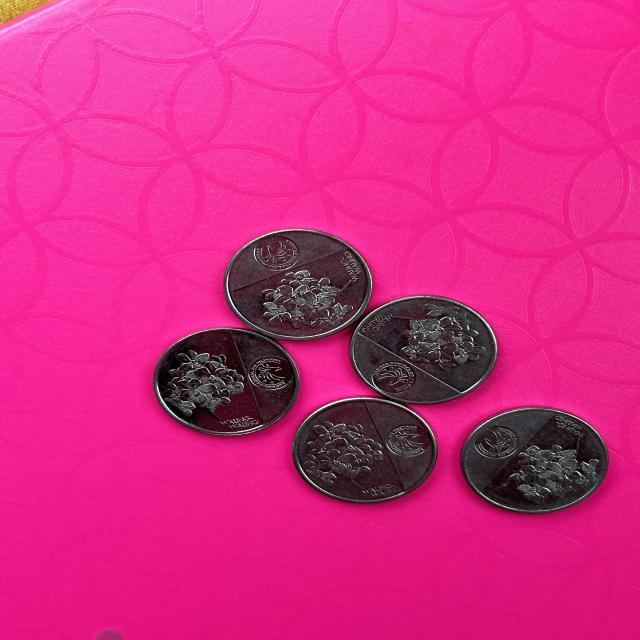1_New_Back: (390, 302, 488, 383), (301, 418, 388, 497), (250, 262, 349, 331), (165, 342, 254, 417), (511, 434, 599, 509)
